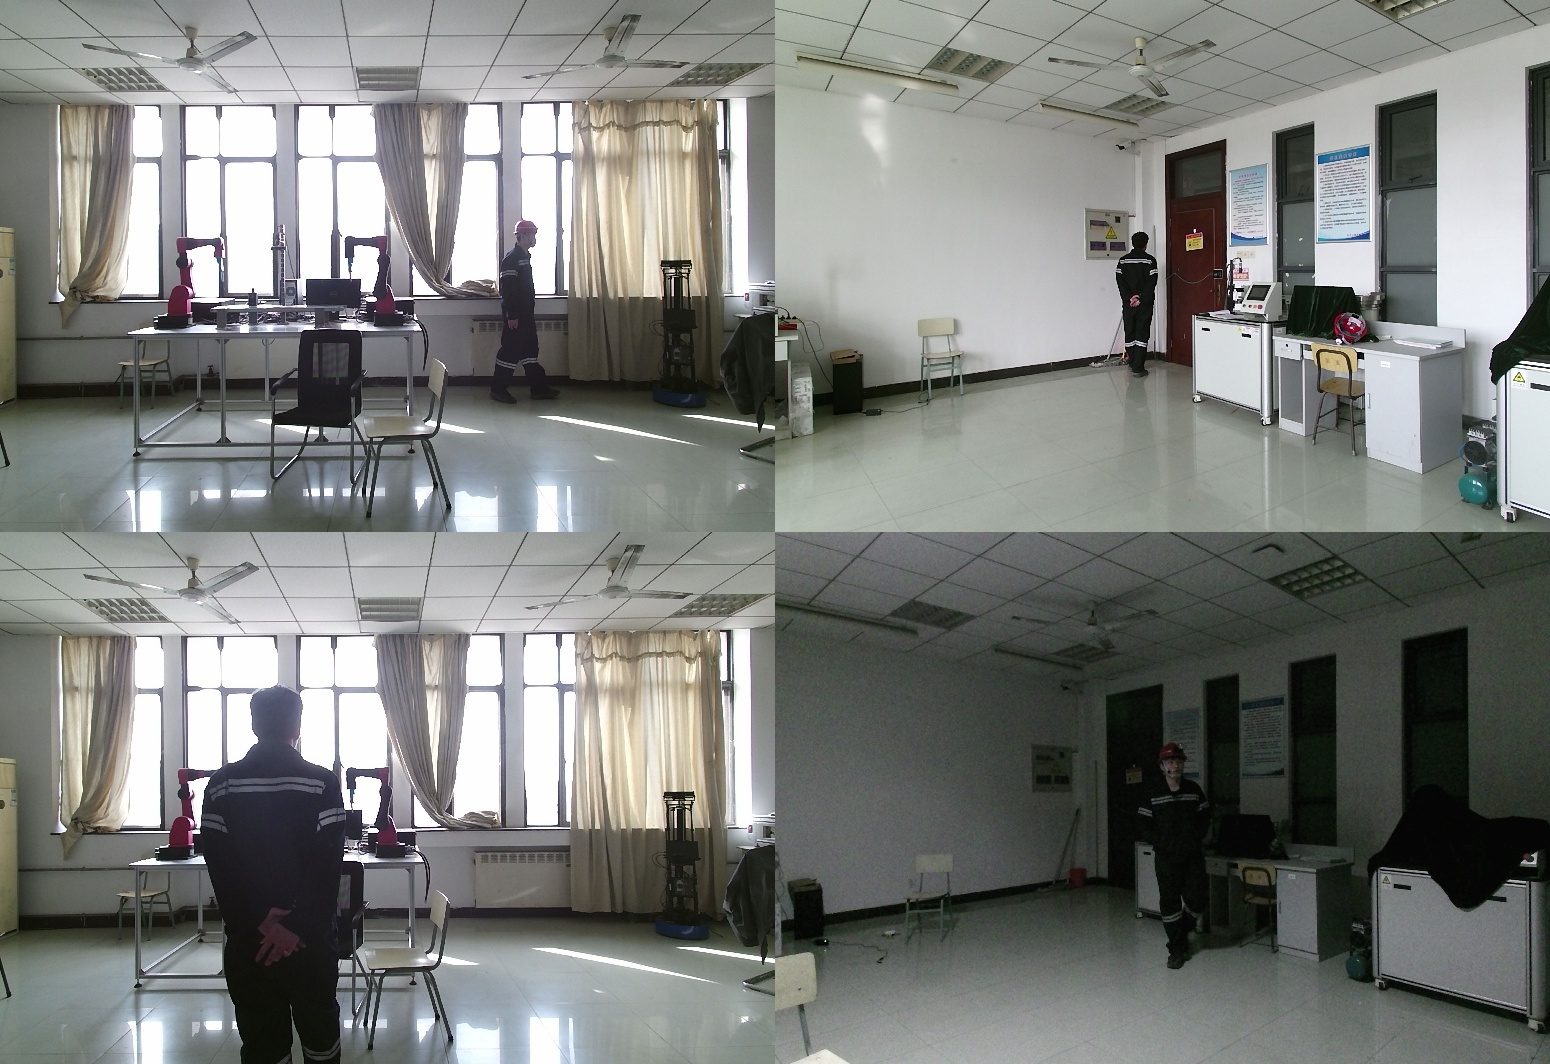person: (201, 686, 362, 1064), (1136, 745, 1226, 969), (490, 220, 562, 412), (1115, 233, 1165, 381)
